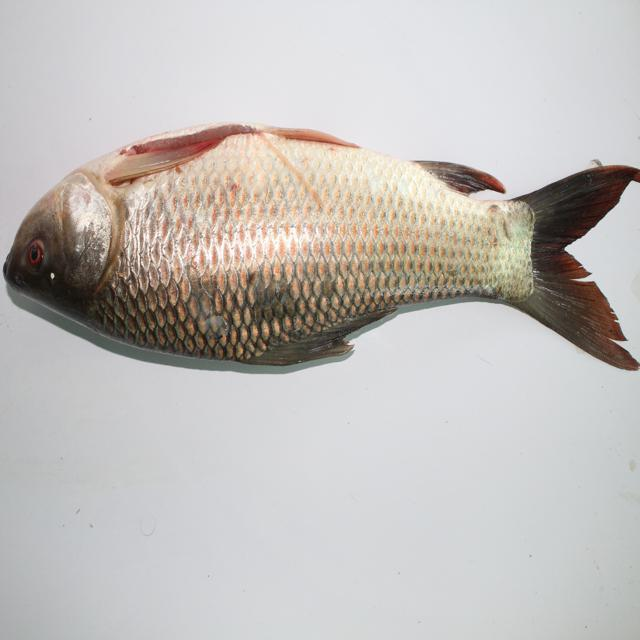Rohu: (4, 100, 640, 375)
